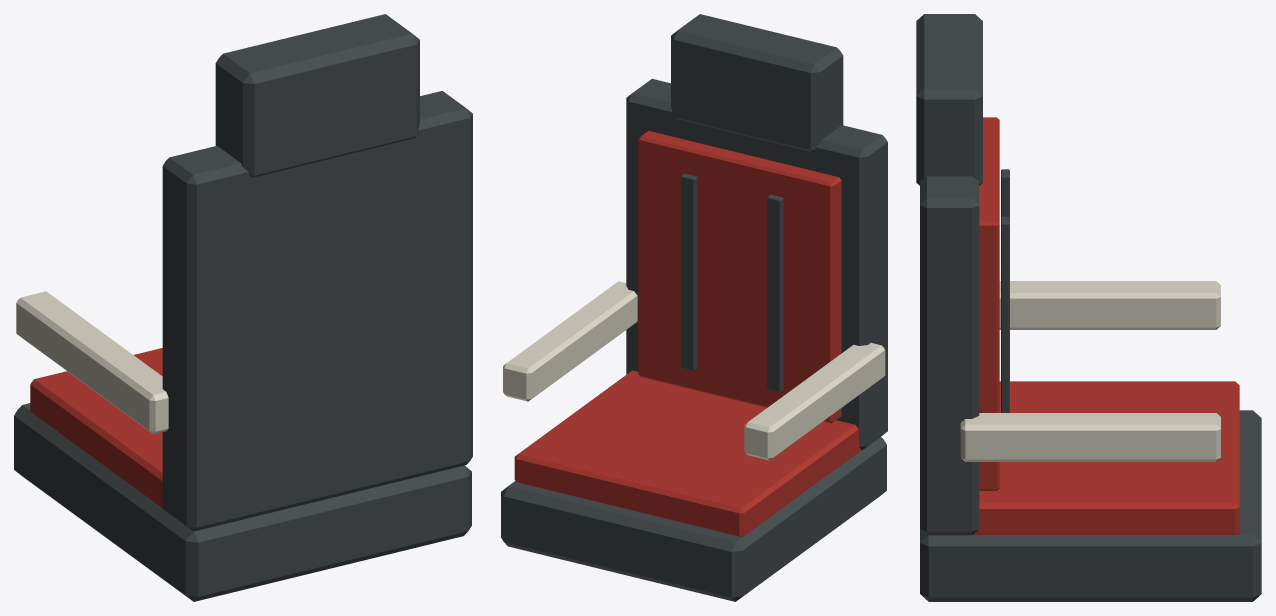
Rendered from seat.v1.glb.
3 views of the same model, side by side, from view 1: azimuth 30°, elevation 25°; view 2: azimuth 150°, elevation 25°; view 3: azimuth 270°, elevation 25° (orthographic). The views are drawn at different scales.
Visible parts, largest first — view 1: seat_back, seat_base, seat_headrest, seat_armrest, seat_cushion; view 2: seat_pad, seat_cushion, seat_base, seat_back, seat_headrest, seat_armrest, seat_armrest.001, seat_harness.001, seat_harness; view 3: seat_cushion, seat_base, seat_back, seat_armrest.001, seat_headrest, seat_armrest, seat_pad, seat_harness.001.
Boxes of the visible parts, x1,y1,x2,y2 form: seat_back: (162,91,472,531); seat_base: (14,403,471,601); seat_headrest: (215,14,419,177); seat_armrest: (16,291,168,434); seat_cushion: (30,348,162,507); seat_pad: (638,130,841,423); seat_cushion: (514,370,861,536); seat_base: (501,437,886,601); seat_back: (626,78,887,450); seat_headrest: (671,14,843,151); seat_armrest: (744,343,885,460); seat_armrest.001: (503,281,637,401); seat_harness.001: (680,173,697,370); seat_harness: (767,194,783,391); seat_cushion: (973,381,1239,534); seat_base: (920,410,1261,601); seat_back: (920,176,979,535); seat_armrest.001: (960,413,1220,461); seat_headrest: (916,14,982,185); seat_armrest: (999,281,1220,329); seat_pad: (979,117,999,490); seat_harness.001: (1001,216,1009,412).
Size of the model in its own units: 4.7 by 7.25 by 4.65.
